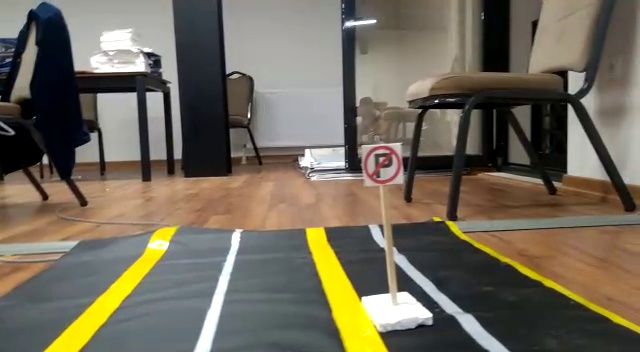park_yapilmaz: (358, 141, 404, 186)
